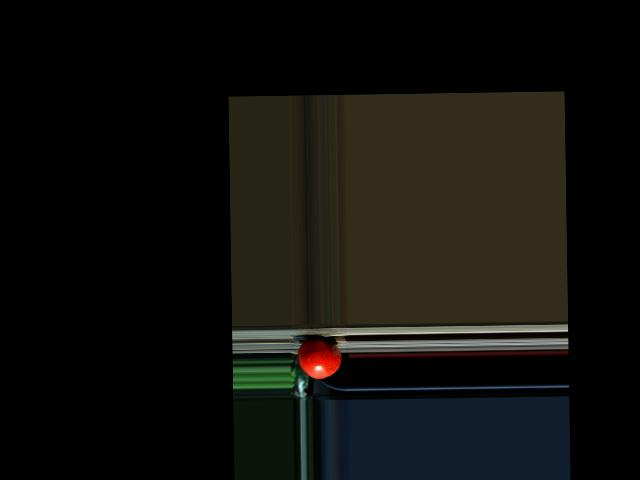tomato: (296, 338, 341, 379)
